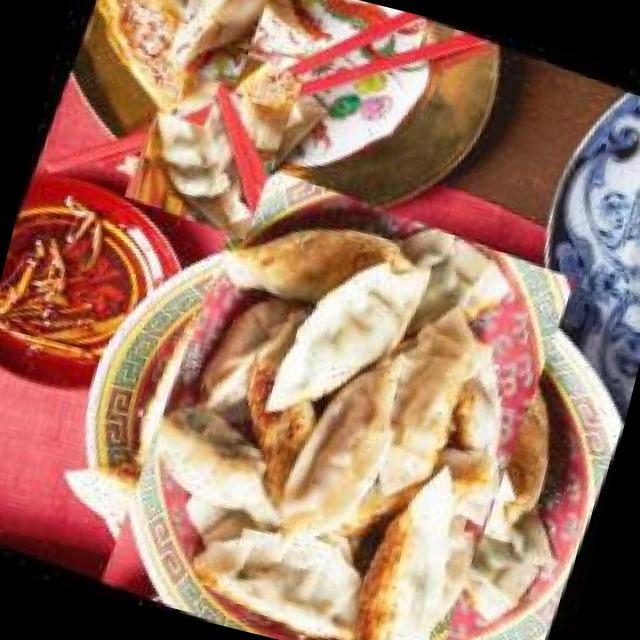fried_dumplings: (62, 170, 605, 640), (113, 36, 314, 240), (64, 0, 248, 132), (145, 0, 303, 73)
